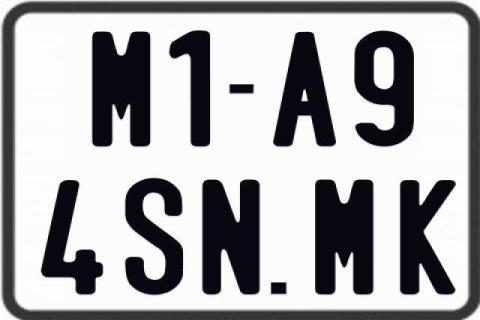0: (351, 29, 415, 147), (41, 180, 104, 296), (168, 29, 215, 145)
A: (273, 30, 337, 146)
K: (399, 178, 457, 294)
M: (90, 30, 151, 146), (315, 178, 373, 294)
N: (202, 178, 264, 296)
S: (125, 176, 184, 293)
